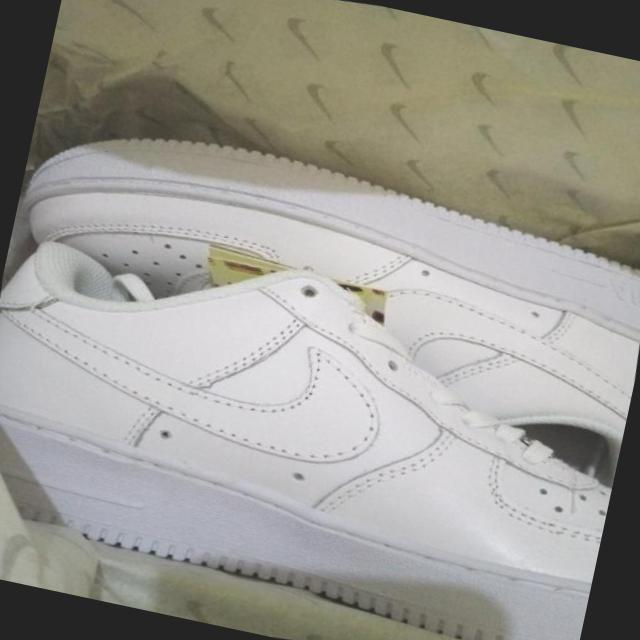nike_fake_airforce: (0, 27, 640, 495), (0, 183, 640, 640)
